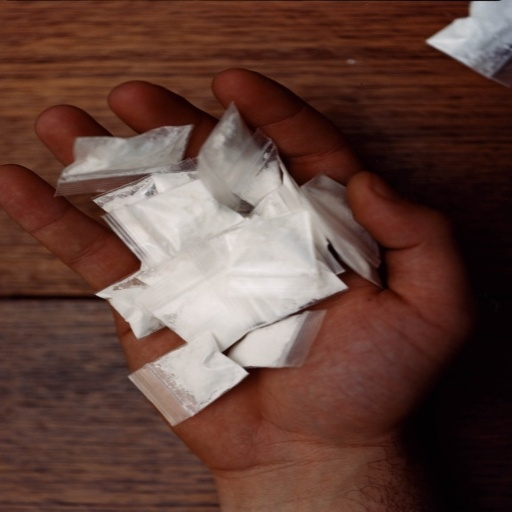hand: (0, 66, 472, 470)
